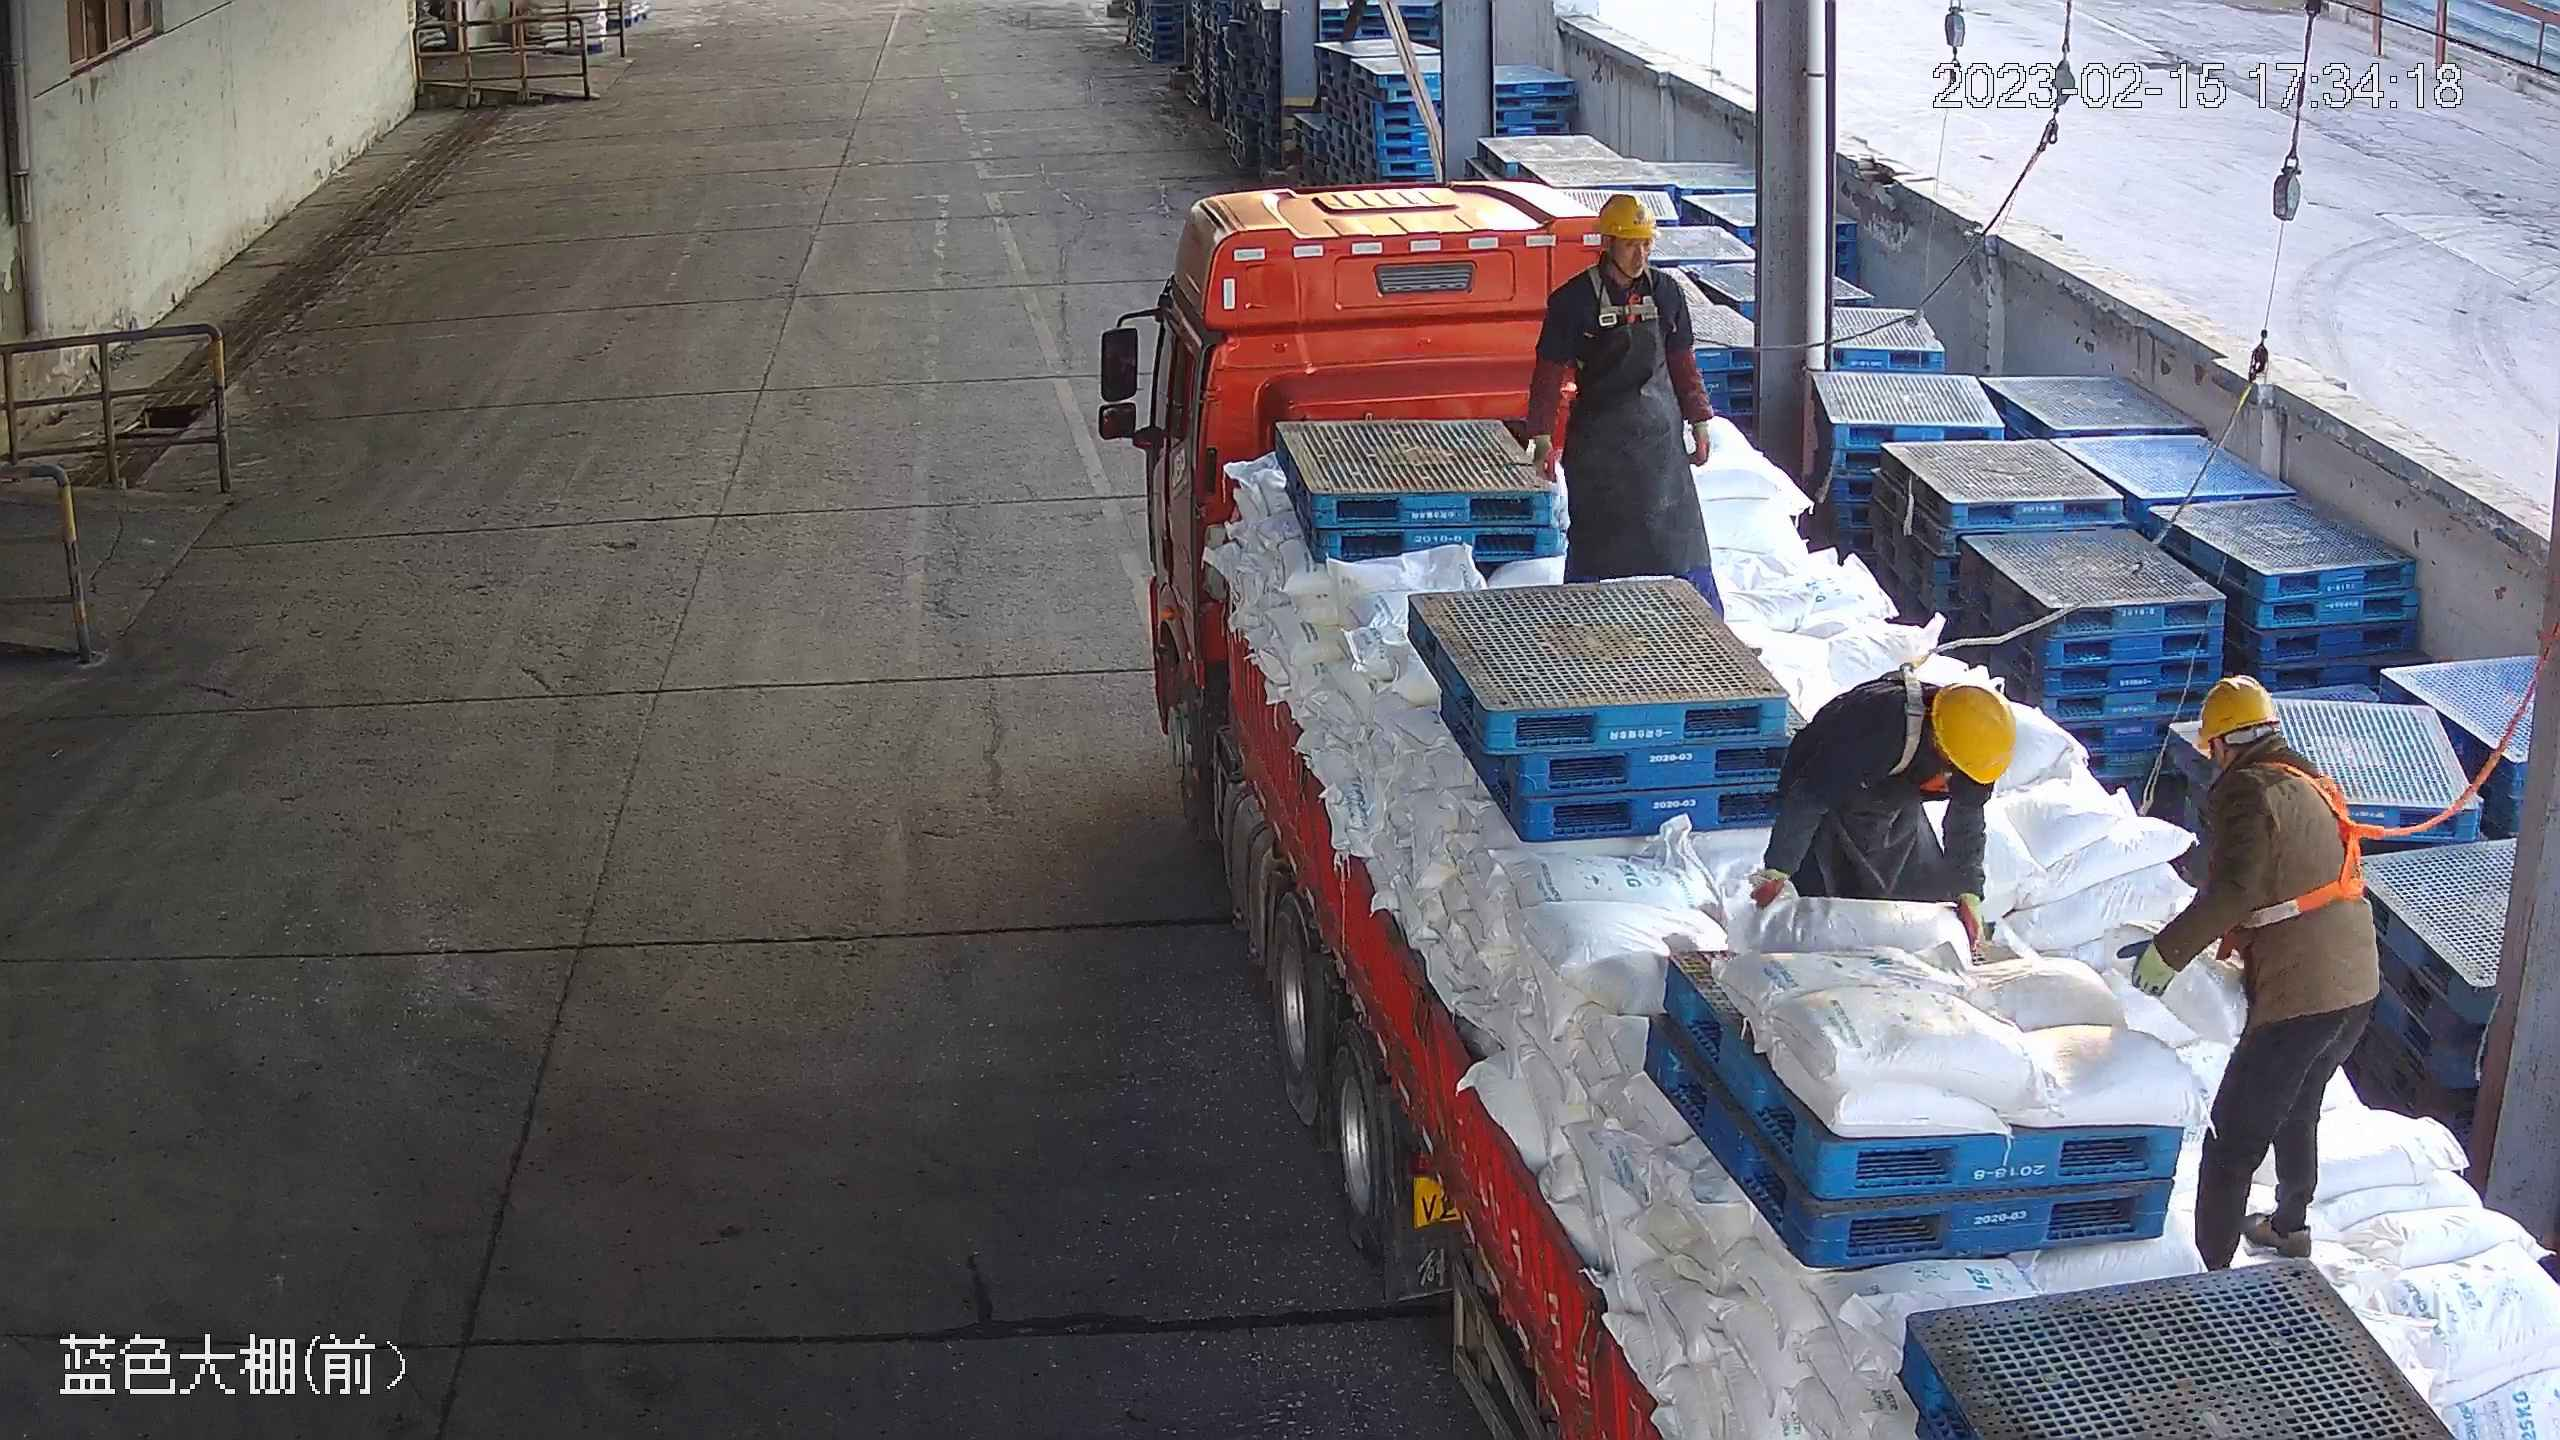belt: (2214, 756, 2385, 934), (1886, 641, 1994, 786), (1583, 263, 1705, 348)
head: (2196, 672, 2349, 814), (1838, 681, 2021, 798), (1542, 194, 1687, 309)
helmet: (1932, 682, 2018, 785), (2198, 672, 2282, 750), (1597, 194, 1655, 240)
people: (2114, 674, 2381, 1275), (1524, 193, 1725, 625), (1749, 680, 2016, 952)
truck: (1144, 178, 2560, 1440)
